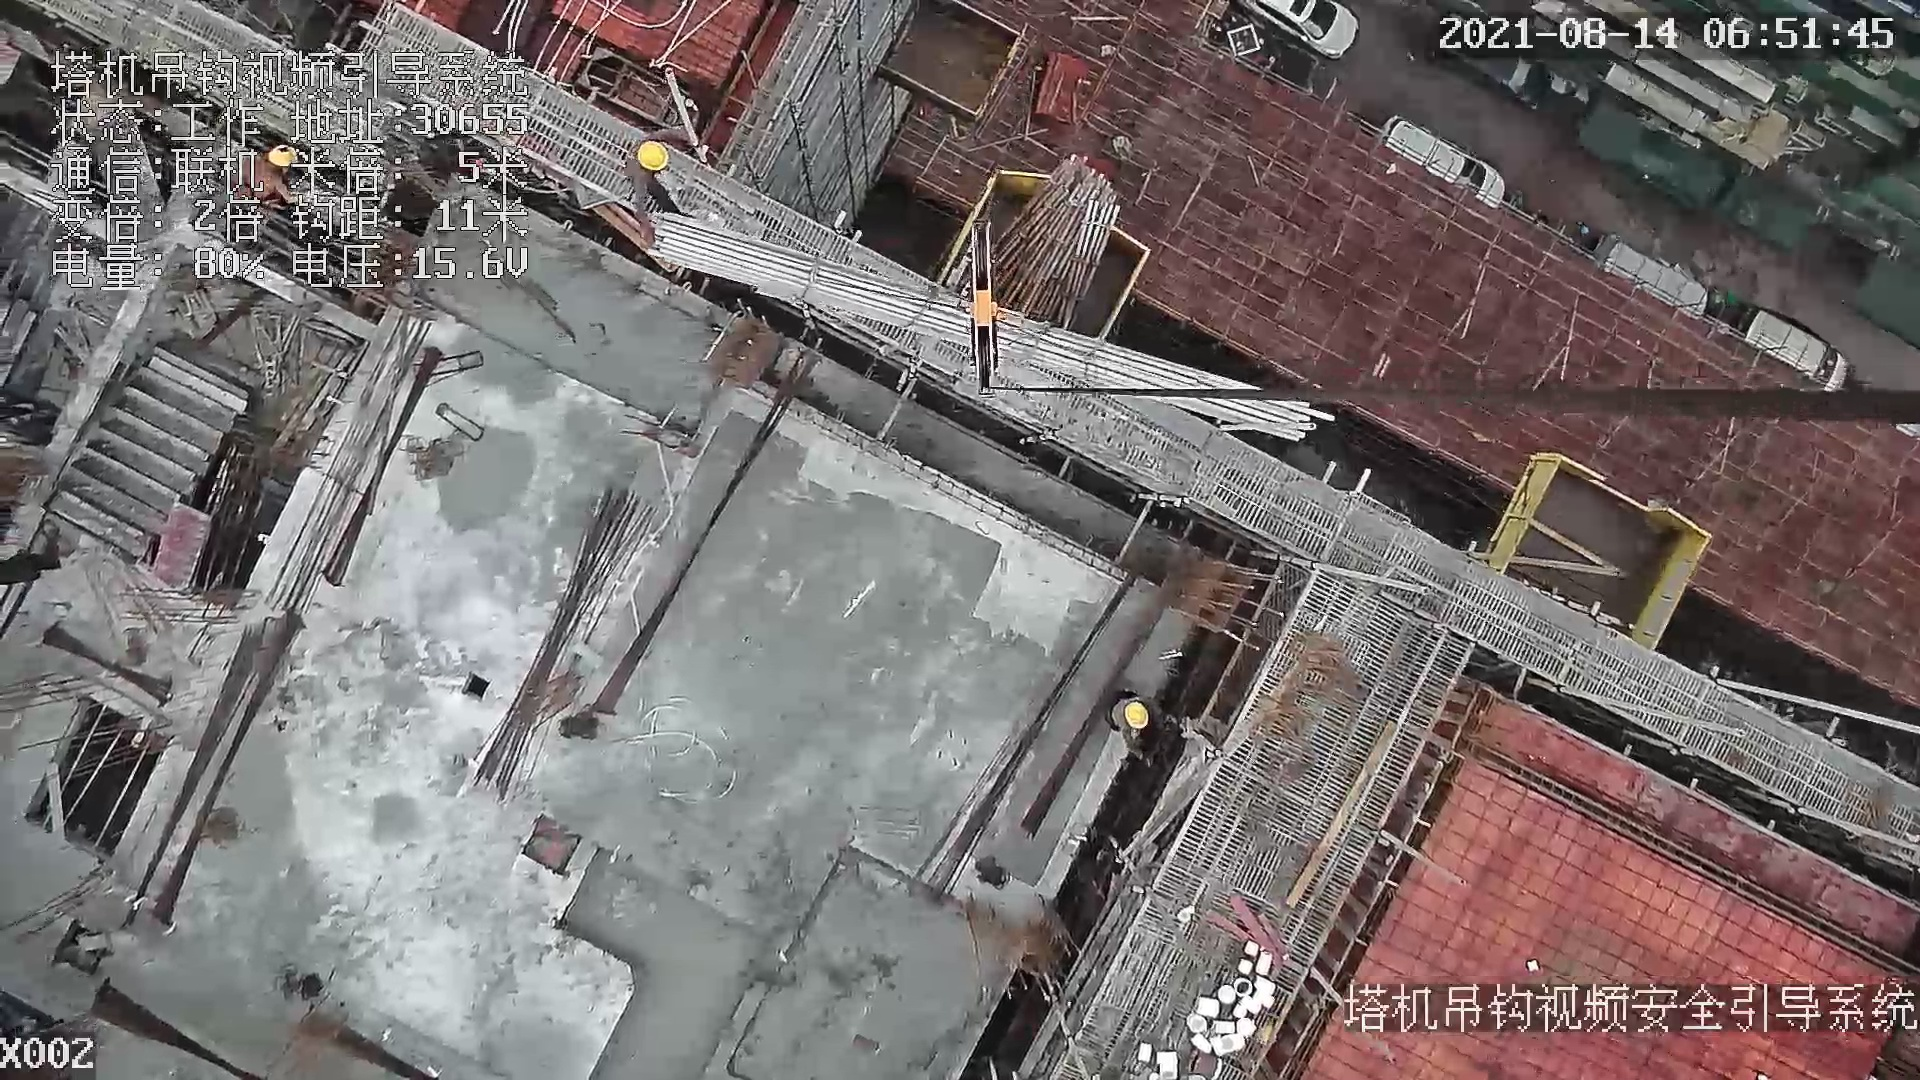helmet: (637, 141, 670, 172), (1124, 703, 1148, 729)
hook: (959, 217, 1033, 417)
person: (624, 124, 697, 251), (1106, 683, 1190, 768)
rebar: (653, 208, 1334, 441), (466, 491, 659, 799)
scaffold: (994, 157, 1120, 329)
